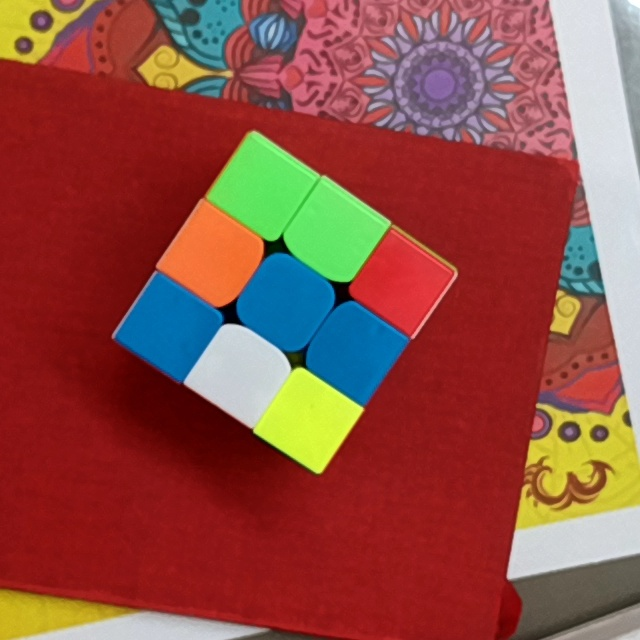tile: (141, 298, 200, 356), (185, 226, 243, 283), (212, 346, 268, 402), (305, 205, 365, 257), (234, 160, 294, 212), (256, 276, 311, 332), (374, 255, 432, 305), (328, 325, 382, 377), (283, 396, 335, 449)
